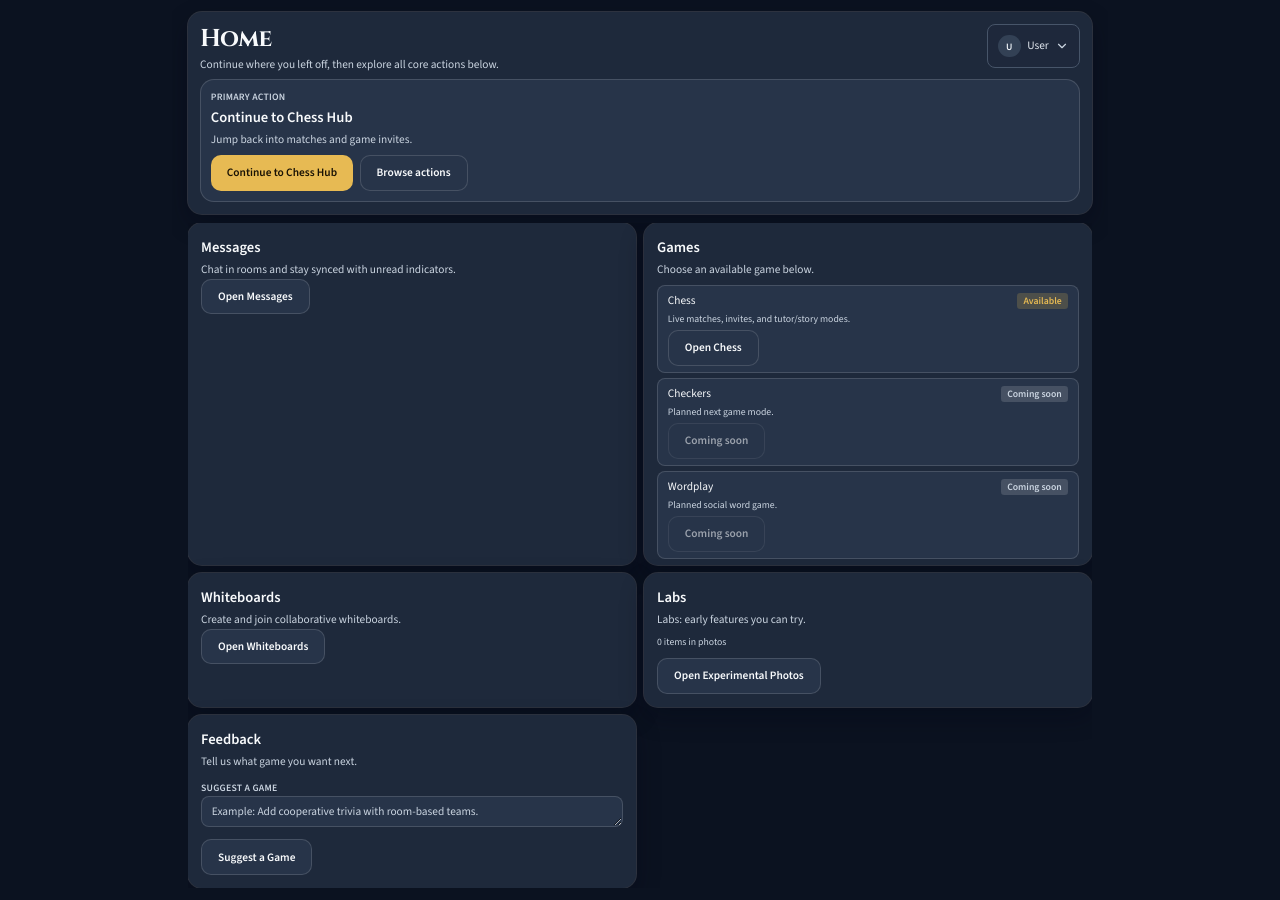
Scenario: HomePage › submits a game suggestion from feedback card
The width and height of the screenshot is (1280, 900).
Type "Add cooperative trivia mode" into the text box labelled "Suggest a game". click: coordinates (412, 812)
box: x1=201 y1=796 x2=623 y2=827
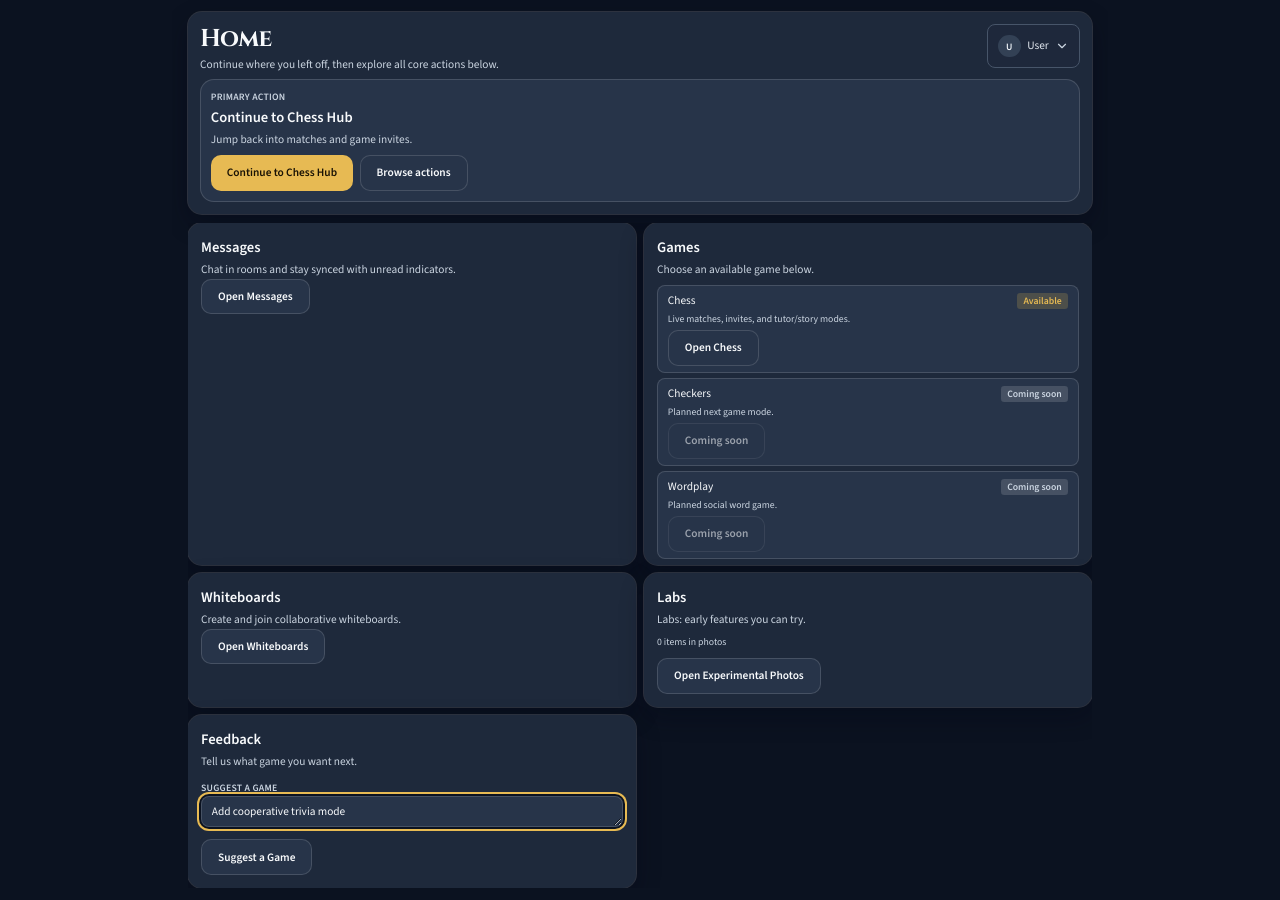
Click the button "Suggest a Game". click: coordinates (257, 857)
box: x1=201 y1=839 x2=312 y2=875
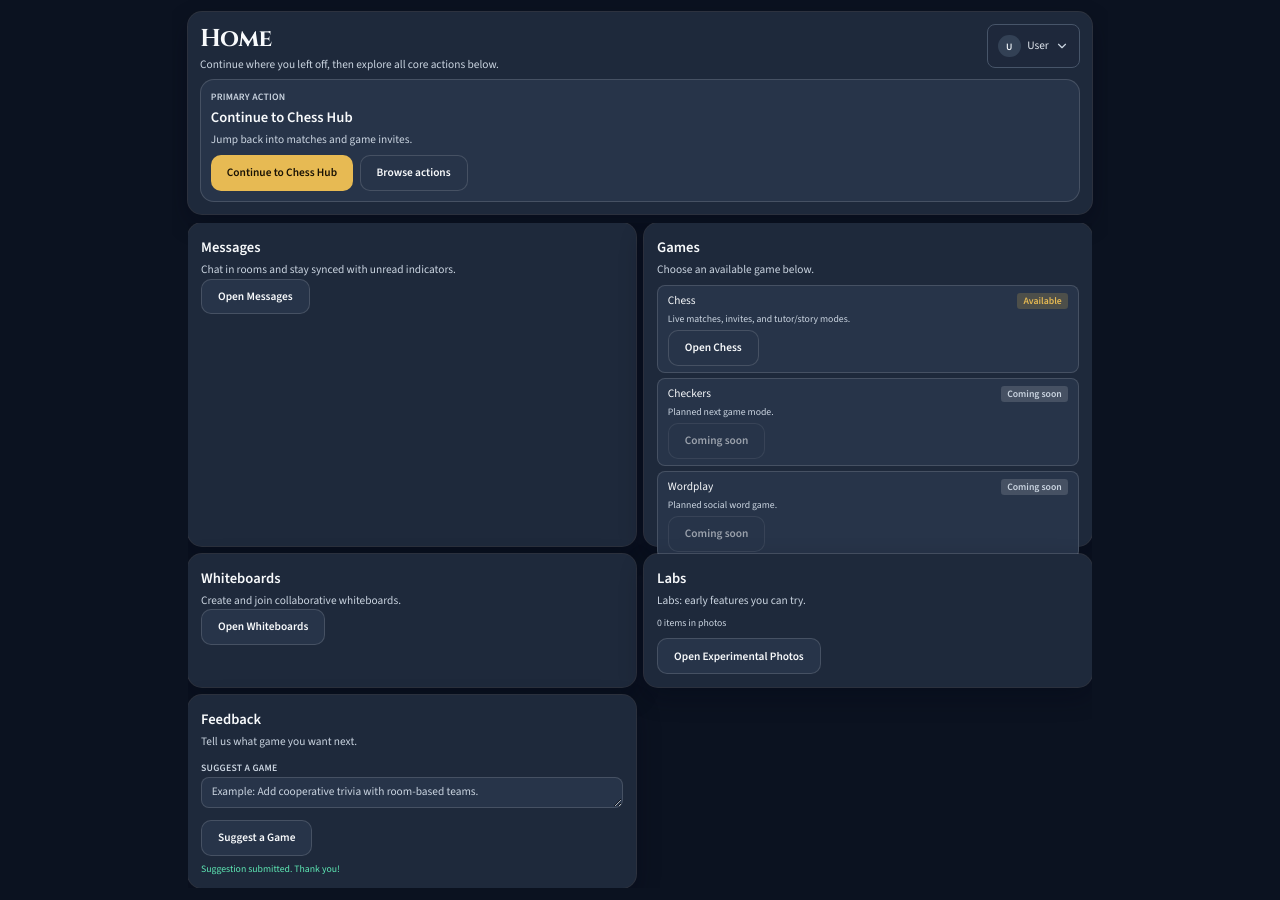
expect the text "Suggestion submitted. Thank you!" is shown: met, box x1=201 y1=862 x2=340 y2=875
